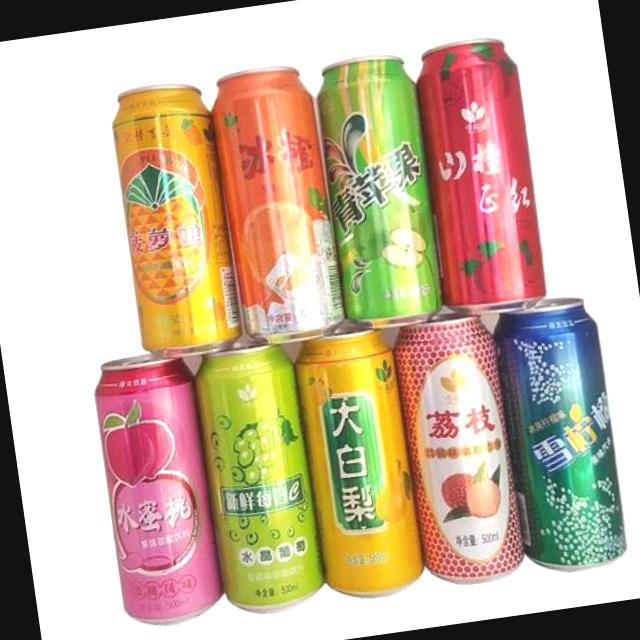can: (408, 29, 556, 323), (208, 56, 352, 350), (102, 73, 246, 364), (491, 292, 636, 580), (85, 348, 229, 634), (310, 44, 450, 336), (188, 339, 330, 623), (390, 309, 532, 593), (290, 324, 430, 608)
